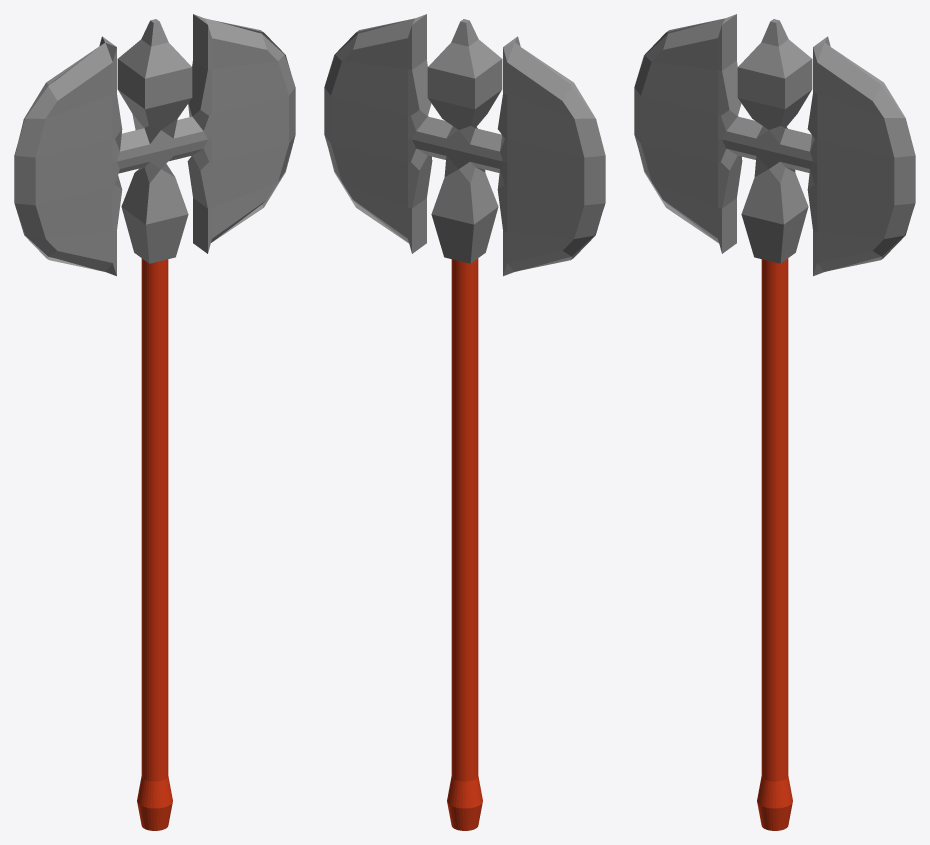
The model's file is ascia.fbx.
3 renders of one model, left to right at view 1: azimuth 30°, elevation 25°; view 2: azimuth 150°, elevation 25°; view 3: azimuth 330°, elevation 25°, orthographic.
Visible parts, largest first — view 1: Cube, Cube.001; view 2: Cube, Cube.001; view 3: Cube, Cube.001.
Part boxes in pixels (x1=…): Cube: x1=14, y1=14, x2=295, y2=276; Cube.001: x1=137, y1=258, x2=172, y2=830; Cube: x1=324, y1=14, x2=605, y2=276; Cube.001: x1=447, y1=258, x2=482, y2=830; Cube: x1=634, y1=14, x2=915, y2=276; Cube.001: x1=757, y1=258, x2=792, y2=830.
Size of the model in its own units: 1320 by 3612 by 222.
